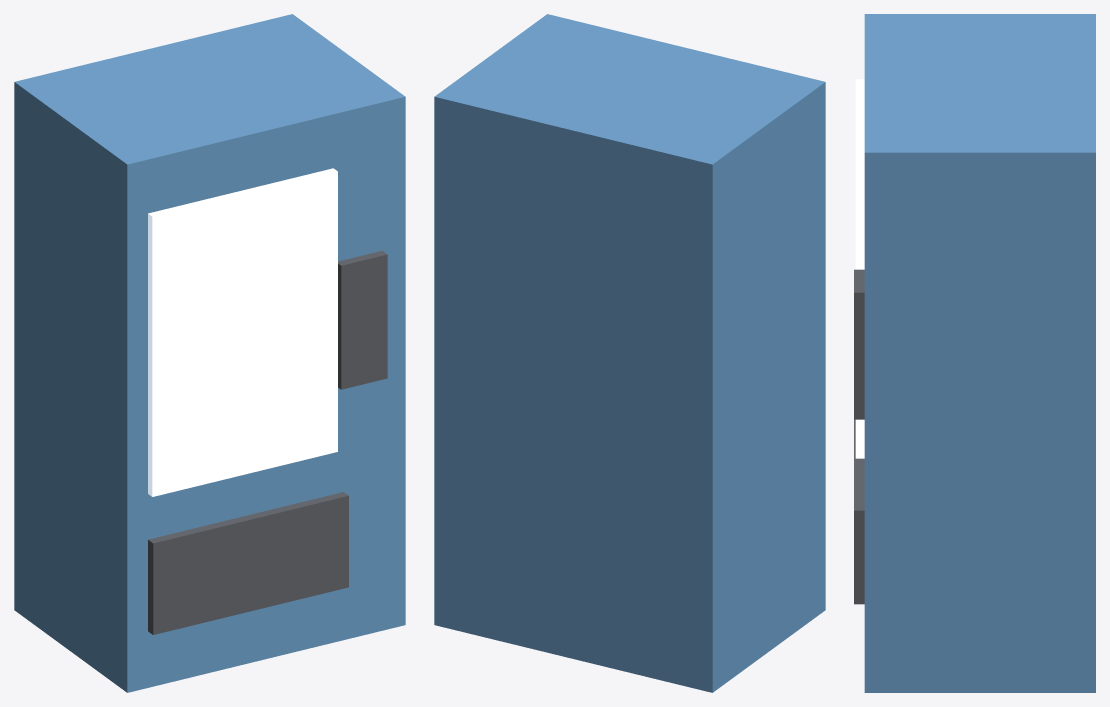
File: prop_vending.glb
The picture shows the model from 3 angles, left to right: view 1: azimuth 30°, elevation 25°; view 2: azimuth 150°, elevation 25°; view 3: azimuth 270°, elevation 25°; orthographic projection. The views are drawn at different scales.
Parts seen in each view (by area): view 1: prop_vending; view 2: prop_vending; view 3: prop_vending.
Boxes of the visible parts, <box> form: prop_vending: <box>14,14,405,692</box>; prop_vending: <box>434,14,825,692</box>; prop_vending: <box>854,14,1095,692</box>.
Bounding box in the file's own units: 1.08 × 1.96 × 0.795.
